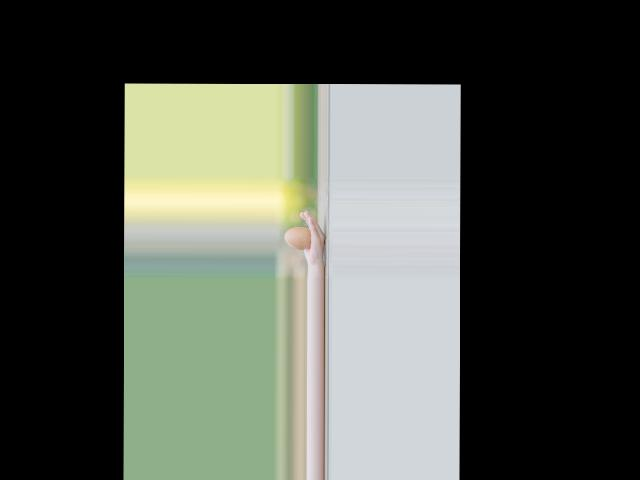egg: (284, 227, 311, 250)
